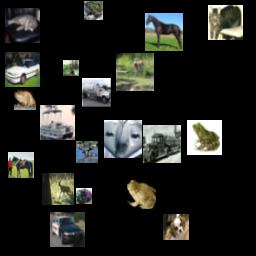airplane: (104, 120, 142, 158)
automobile: (50, 212, 85, 247), (5, 52, 40, 87)
cat: (5, 8, 40, 43), (208, 5, 243, 40)
deer: (116, 53, 154, 91), (42, 173, 74, 205), (76, 141, 98, 163), (63, 60, 79, 76)
dog: (163, 214, 189, 240)
frog: (187, 120, 222, 155), (127, 180, 156, 209), (14, 88, 36, 110), (84, 1, 103, 20)
ship: (40, 105, 75, 140)
truck: (143, 125, 181, 163), (82, 78, 111, 107), (76, 188, 92, 204)
